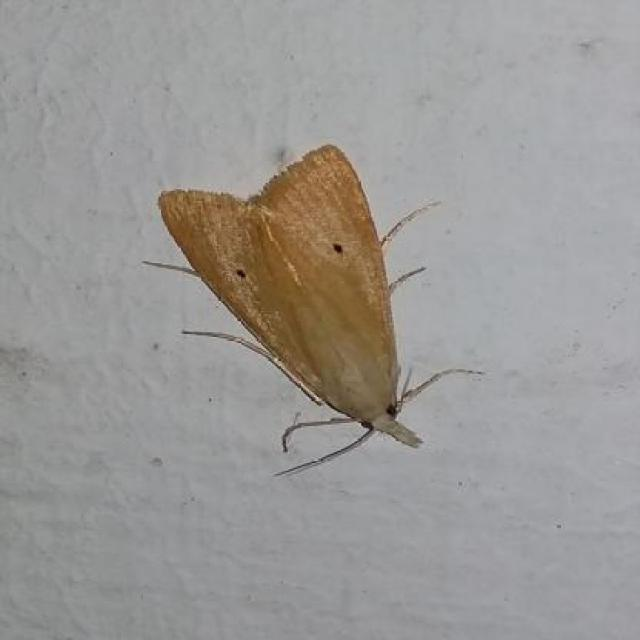stem-borer: (131, 142, 495, 483)
